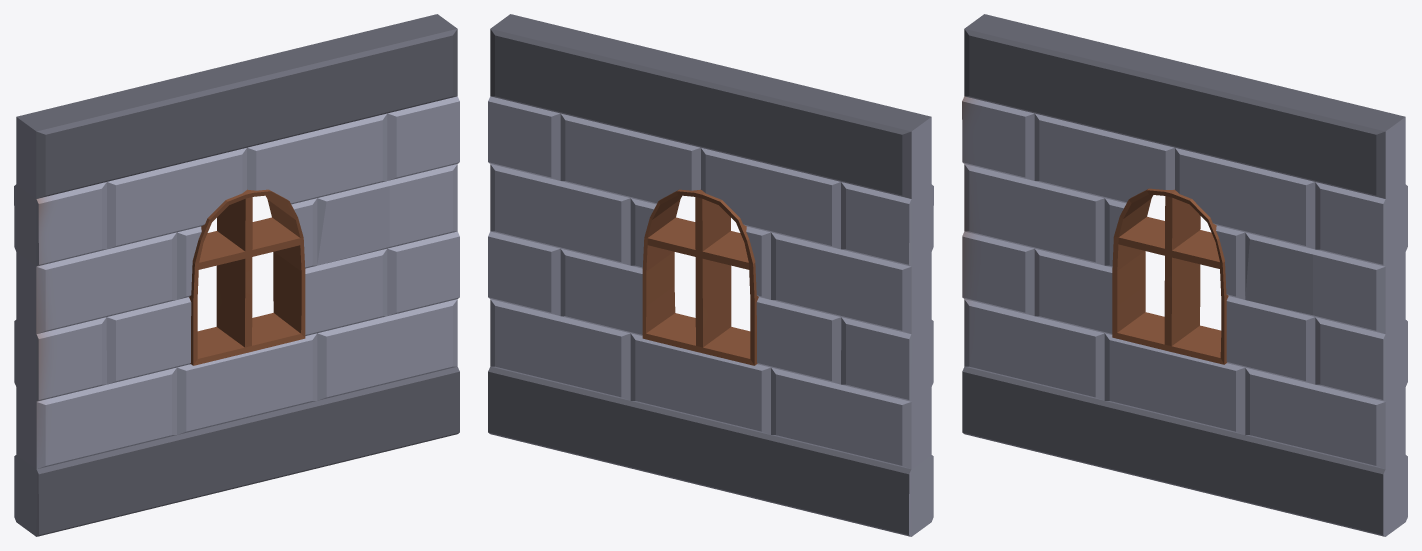
File: janela.fbx
3 views of the same model, side by side, from view 1: azimuth 30°, elevation 25°; view 2: azimuth 150°, elevation 25°; view 3: azimuth 330°, elevation 25° (orthographic).
Visible parts, largest first — view 1: paede.024; view 2: paede.024; view 3: paede.024.
Boxes of the visible parts, bbox=[...] form: paede.024: bbox=[14, 14, 459, 536]; paede.024: bbox=[488, 14, 933, 536]; paede.024: bbox=[962, 14, 1407, 536].
Size of the model in its own units: 218 by 200 by 26.02.
